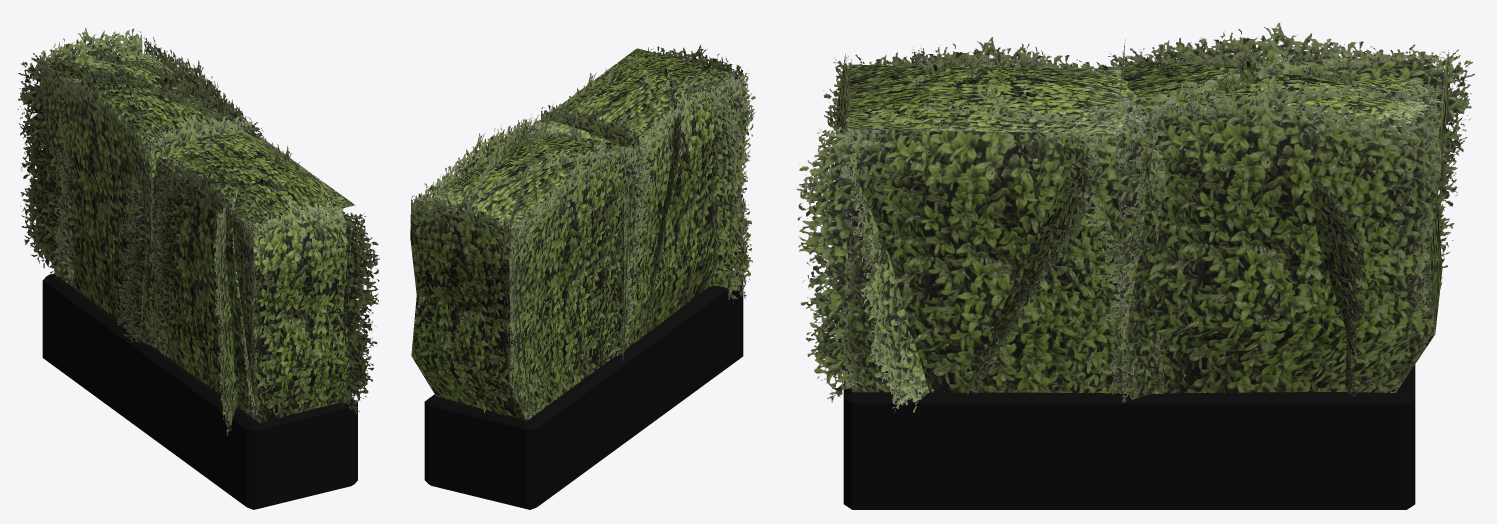
File: Bush.fbx
3 renders of one model, left to right at view 1: azimuth 30°, elevation 25°; view 2: azimuth 150°, elevation 25°; view 3: azimuth 270°, elevation 25°, orthographic. The views are drawn at different scales.
Visible parts, largest first — view 1: boxwood3; view 2: boxwood3; view 3: boxwood3.
Part boxes in pixels (left/top/right/bottom): boxwood3: left=17, top=28, right=379, bottom=509; boxwood3: left=410, top=45, right=755, bottom=509; boxwood3: left=796, top=22, right=1474, bottom=509.
Size of the model in its own units: 371 by 684 by 991.
2 materials, 1 textured.
